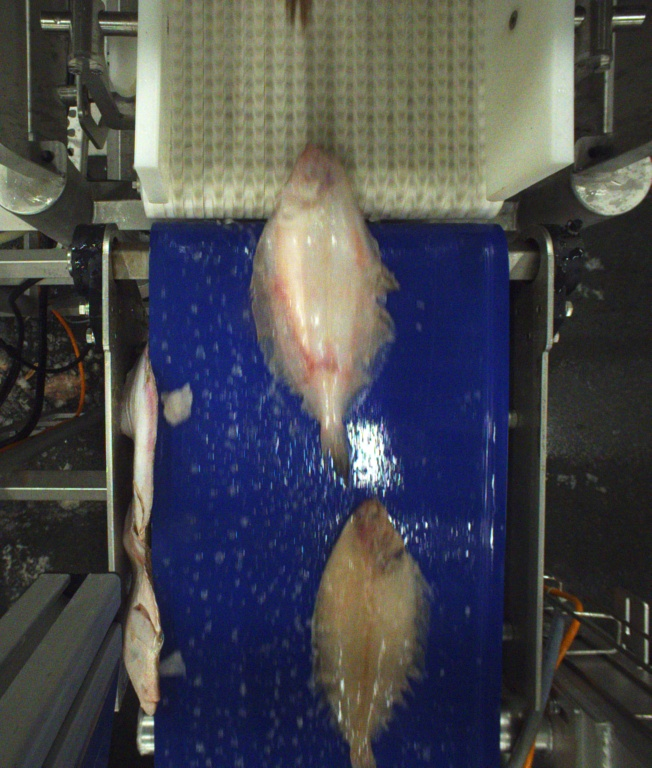WIT: (315, 500, 427, 768)
